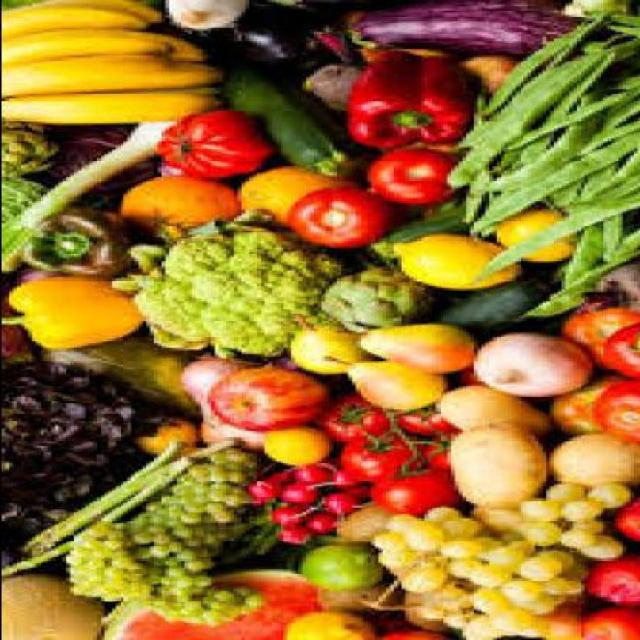BIODEGRADABLE: (1, 358, 168, 570), (114, 211, 351, 358), (1, 123, 172, 274), (438, 57, 617, 192), (2, 455, 195, 577), (91, 548, 317, 638), (449, 40, 637, 148), (15, 442, 183, 550), (465, 135, 637, 236), (138, 2, 339, 76), (465, 202, 637, 288), (221, 72, 354, 180), (464, 13, 602, 115), (31, 334, 194, 418), (343, 2, 583, 58), (480, 92, 606, 196), (346, 53, 465, 152), (1, 277, 137, 352), (442, 422, 549, 510), (46, 128, 156, 208), (1, 89, 217, 129), (148, 110, 267, 182), (175, 358, 263, 452), (515, 260, 636, 325), (232, 168, 358, 230), (468, 337, 590, 401), (202, 369, 324, 433), (1, 63, 217, 99), (164, 450, 247, 542), (2, 31, 202, 69), (388, 235, 518, 293), (422, 279, 548, 338), (316, 268, 427, 334), (115, 179, 236, 239), (2, 28, 165, 72), (332, 324, 468, 376), (129, 519, 206, 606), (282, 190, 392, 250), (320, 360, 442, 412), (431, 387, 552, 439), (1, 574, 96, 638), (0, 2, 142, 42), (62, 523, 129, 606), (361, 151, 454, 207), (545, 435, 637, 491), (553, 308, 636, 369), (365, 208, 461, 260), (148, 586, 262, 628), (286, 316, 362, 378), (361, 470, 454, 516), (488, 214, 570, 266), (312, 394, 390, 444), (209, 505, 271, 567), (560, 158, 632, 210), (145, 504, 217, 554), (293, 548, 373, 590), (572, 264, 636, 316), (334, 442, 412, 484), (556, 226, 606, 291), (590, 384, 636, 448), (255, 429, 328, 469), (23, 2, 155, 24), (1, 124, 53, 179), (572, 114, 636, 158), (545, 385, 598, 437), (579, 560, 636, 608), (126, 421, 191, 461), (160, 1, 240, 32), (328, 508, 395, 544), (453, 56, 510, 98), (457, 170, 503, 222), (549, 166, 613, 203), (294, 69, 346, 113), (312, 587, 392, 615), (168, 441, 235, 474), (1, 178, 42, 230), (598, 326, 636, 382), (282, 614, 366, 638), (385, 407, 449, 438), (396, 594, 446, 632), (574, 608, 637, 638), (1, 302, 28, 363), (465, 507, 518, 538), (556, 2, 629, 24), (532, 606, 576, 639), (609, 497, 637, 546), (396, 570, 446, 596), (598, 228, 636, 262), (434, 580, 472, 614), (488, 613, 537, 638), (594, 218, 621, 262), (598, 100, 636, 131), (465, 589, 506, 616), (511, 561, 560, 582), (419, 437, 446, 474), (275, 485, 316, 509), (240, 480, 274, 508), (499, 581, 538, 605), (438, 540, 480, 562), (370, 552, 412, 574), (583, 486, 625, 508), (514, 501, 552, 525), (534, 552, 575, 574), (407, 524, 435, 556), (575, 540, 614, 562), (430, 589, 464, 614), (434, 612, 472, 634), (438, 540, 476, 562), (541, 485, 587, 503), (289, 467, 328, 488), (320, 495, 358, 516), (468, 565, 510, 584), (522, 523, 556, 546), (300, 514, 332, 538), (438, 522, 476, 542), (455, 620, 497, 638), (382, 516, 416, 538), (328, 469, 358, 493), (408, 595, 438, 619), (442, 561, 476, 582), (266, 512, 305, 530), (602, 15, 629, 40), (560, 504, 598, 521), (529, 593, 557, 615), (370, 534, 404, 552), (538, 582, 572, 600), (503, 540, 537, 558), (423, 510, 457, 527), (556, 533, 590, 550), (480, 545, 511, 563), (270, 529, 301, 546), (377, 631, 451, 638), (564, 522, 598, 533), (340, 484, 362, 499), (267, 471, 290, 484)
